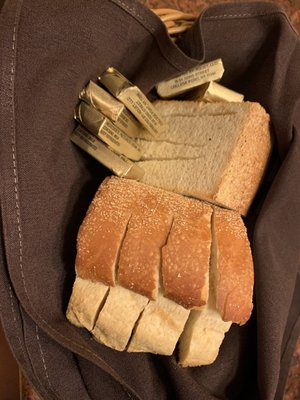soup: (66, 175, 255, 365)
